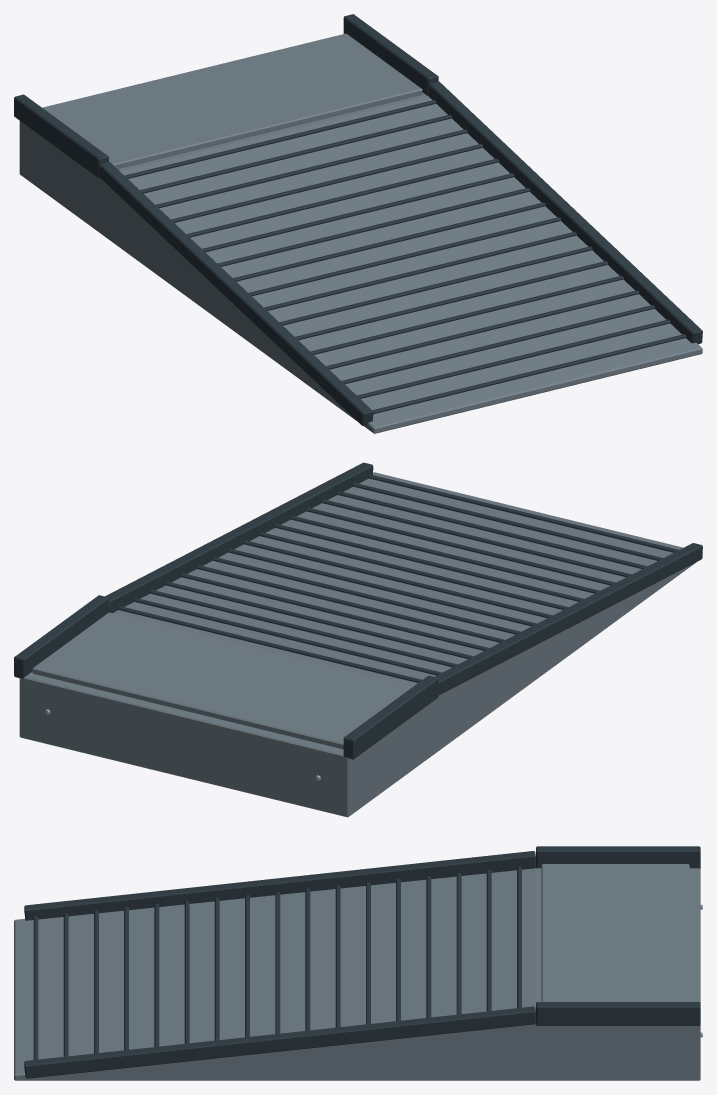
Rendered from b12_entrance_threshold_ramp.glb.
The picture shows the model from 3 angles, top to bottom: view 1: azimuth 30°, elevation 25°; view 2: azimuth 150°, elevation 25°; view 3: azimuth 270°, elevation 25°; orthographic projection. The views are drawn at different scales.
Parts seen in each view (by area): view 1: b12_entrance_threshold_ramp; view 2: b12_entrance_threshold_ramp; view 3: b12_entrance_threshold_ramp.
Part boxes in pixels (box(x1,y1,x2,y2)): b12_entrance_threshold_ramp: box(14, 14, 702, 433); b12_entrance_threshold_ramp: box(14, 462, 702, 817); b12_entrance_threshold_ramp: box(14, 846, 702, 1080).
Size of the model in its own units: 1.38 by 0.31 by 2.51.
